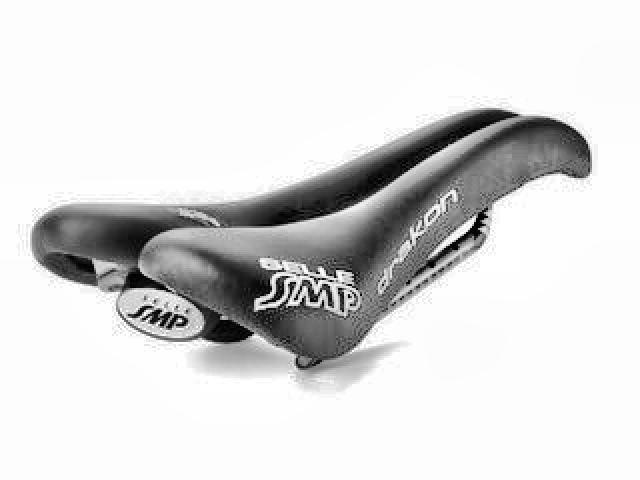saddle: (31, 98, 594, 376)
